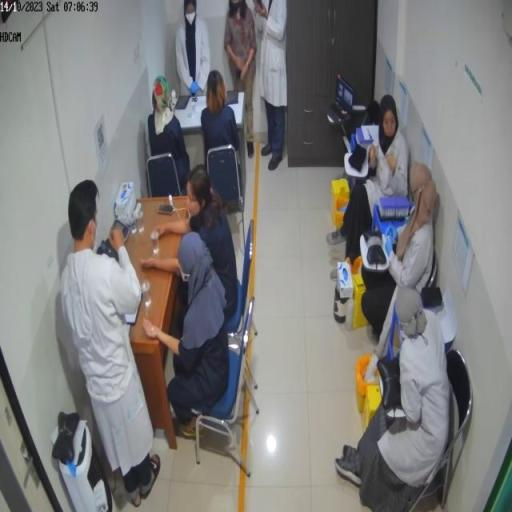person: (62, 179, 163, 510), (337, 287, 452, 510), (144, 230, 231, 441), (143, 166, 240, 331), (361, 171, 440, 350), (327, 96, 411, 263), (256, 2, 289, 171), (225, 1, 258, 159), (149, 77, 192, 196), (202, 71, 243, 195), (176, 1, 213, 98)
